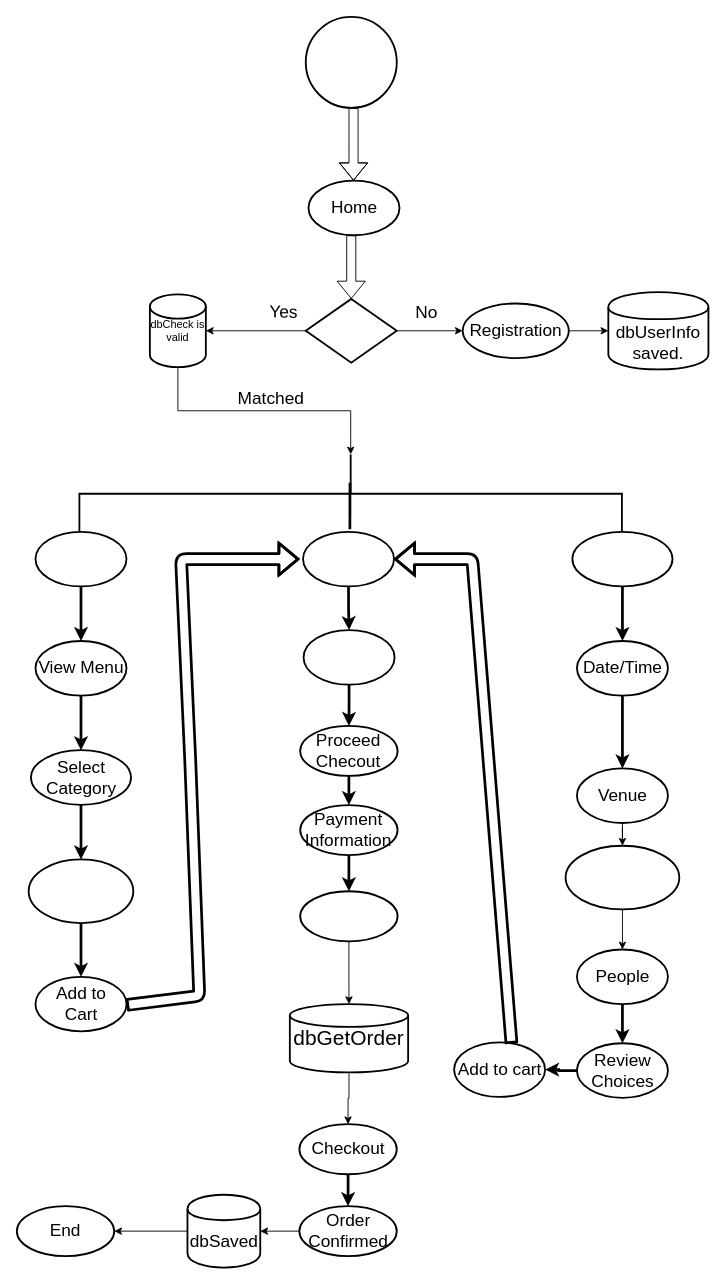
The diagram is 724 pixels wide and 1284 high, and some of its shapes have lost their labels. The centre of each missing label's shape, as x and y in pixels:
"Log In" goes at point (350, 330).
"Menu" goes at point (80, 558).
"My Cart" goes at point (348, 558).
"Reservation" goes at point (622, 558).
"Review Cart" goes at point (348, 657).
"Review Order" goes at point (348, 916).
"Start" goes at point (350, 61).
"Venue Theme" goes at point (622, 877).
"View Selected Choice" goes at point (80, 891).
